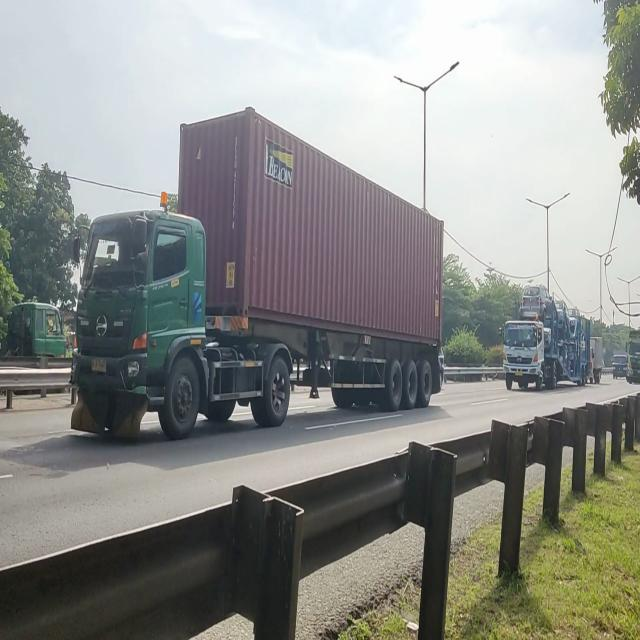Golongan V: (69, 174, 439, 444)
